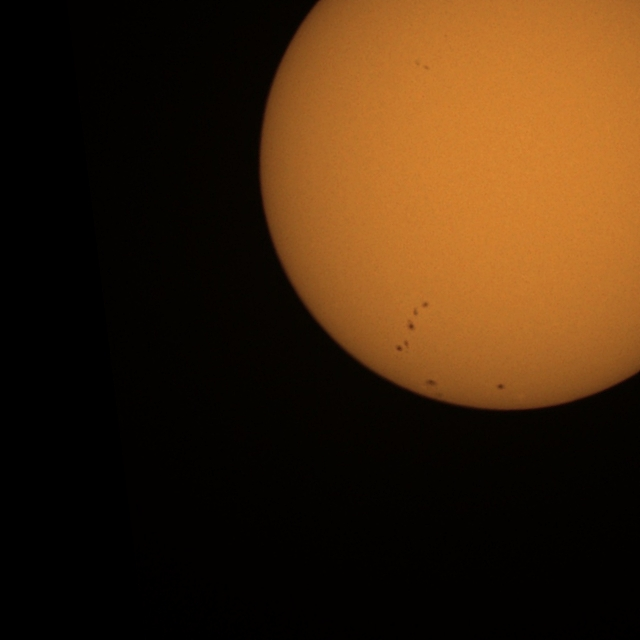sunspot: (404, 303, 427, 333), (410, 300, 430, 321), (413, 58, 430, 71), (396, 338, 410, 353), (423, 378, 439, 390), (496, 382, 506, 391)
